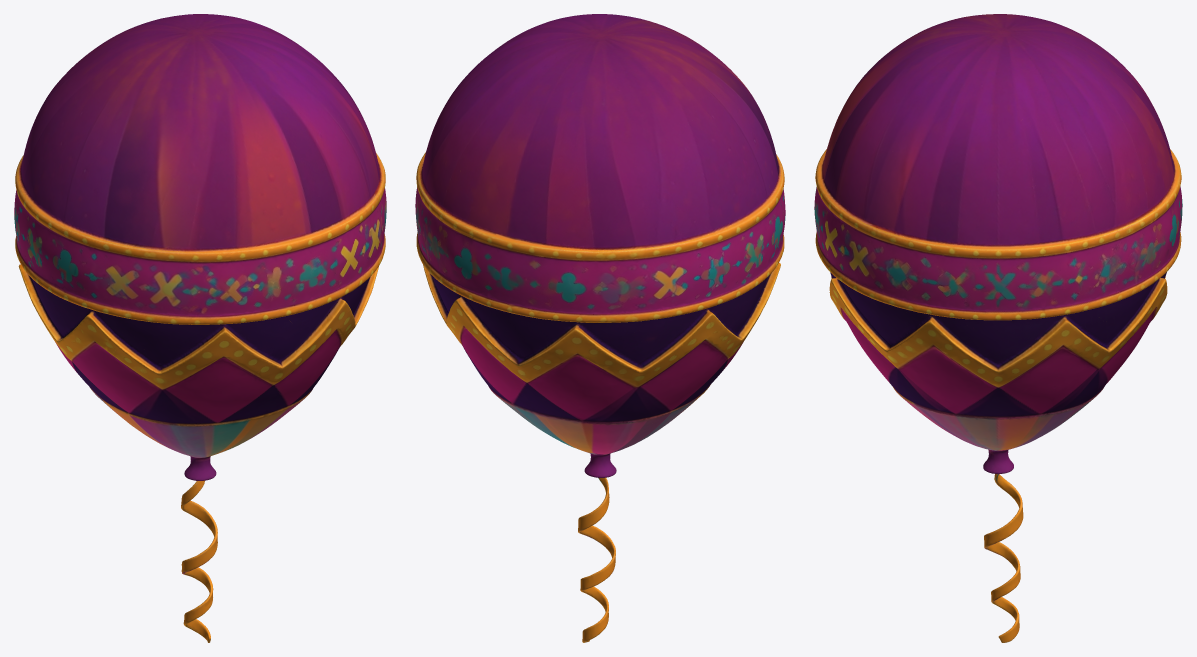
File: balloon-carnival-penalty.glb
3 views of the same model, side by side, from view 1: azimuth 30°, elevation 25°; view 2: azimuth 150°, elevation 25°; view 3: azimuth 270°, elevation 25° (orthographic).
Parts seen in each view (by area): view 1: mesh_node; view 2: mesh_node; view 3: mesh_node.
Part boxes in pixels (<box>): mesh_node: <box>14,14,386,642</box>; mesh_node: <box>415,14,785,642</box>; mesh_node: <box>814,14,1182,642</box>.
Bounding box in the file's own units: 1.05 × 1.9 × 1.05.
1 material, 1 textured.
